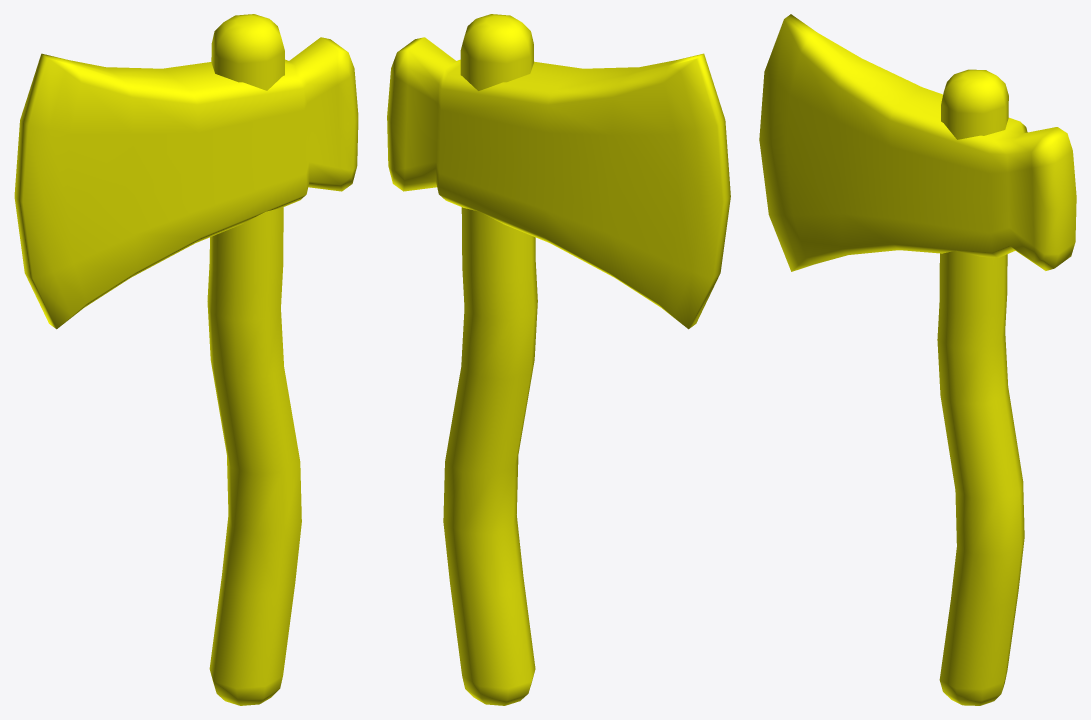
Rendered from Axe_1.fbx.
3 views of the same model, side by side, from view 1: azimuth 30°, elevation 25°; view 2: azimuth 150°, elevation 25°; view 3: azimuth 330°, elevation 25° (orthographic). The views are drawn at different scales.
Visible parts, largest first — view 1: Axe_1; view 2: Axe_1; view 3: Axe_1.
Part boxes in pixels (left/top/right/bottom): Axe_1: left=14, top=14, right=358, bottom=705; Axe_1: left=387, top=14, right=730, bottom=705; Axe_1: left=759, top=14, right=1076, bottom=705.
Bounding box in the file's own units: 49.33 × 98.64 × 10.73.
